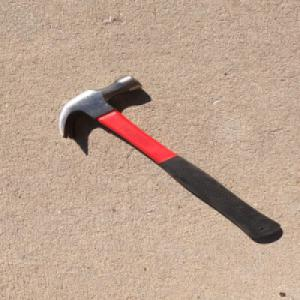Hammer: (55, 73, 285, 245)
